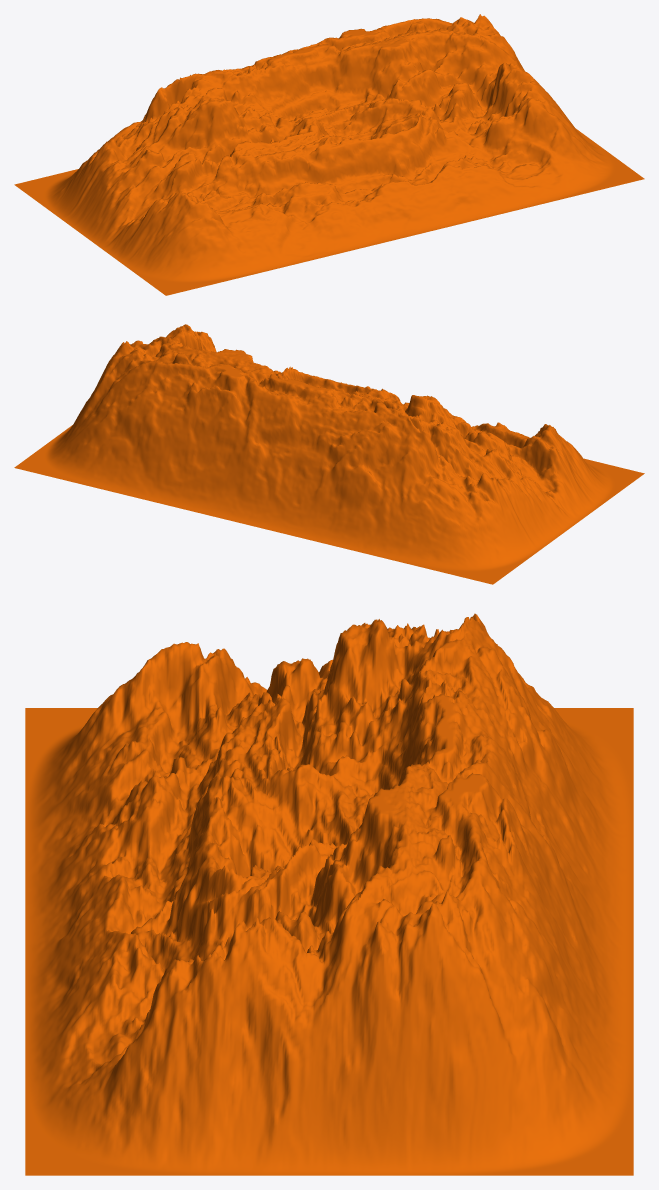
The model's file is entrada4.fbx.
The picture shows the model from 3 angles, top to bottom: view 1: azimuth 30°, elevation 25°; view 2: azimuth 150°, elevation 25°; view 3: azimuth 270°, elevation 25°; orthographic projection. The views are drawn at different scales.
Visible parts, largest first — view 1: Landscape.003; view 2: Landscape.003; view 3: Landscape.003.
Boxes of the visible parts, box(x1,y1,x2,y2) form: Landscape.003: box(14, 14, 644, 295); Landscape.003: box(14, 324, 644, 584); Landscape.003: box(25, 613, 633, 1175).
Bounding box in the file's own units: 331 × 182 × 71.68.
